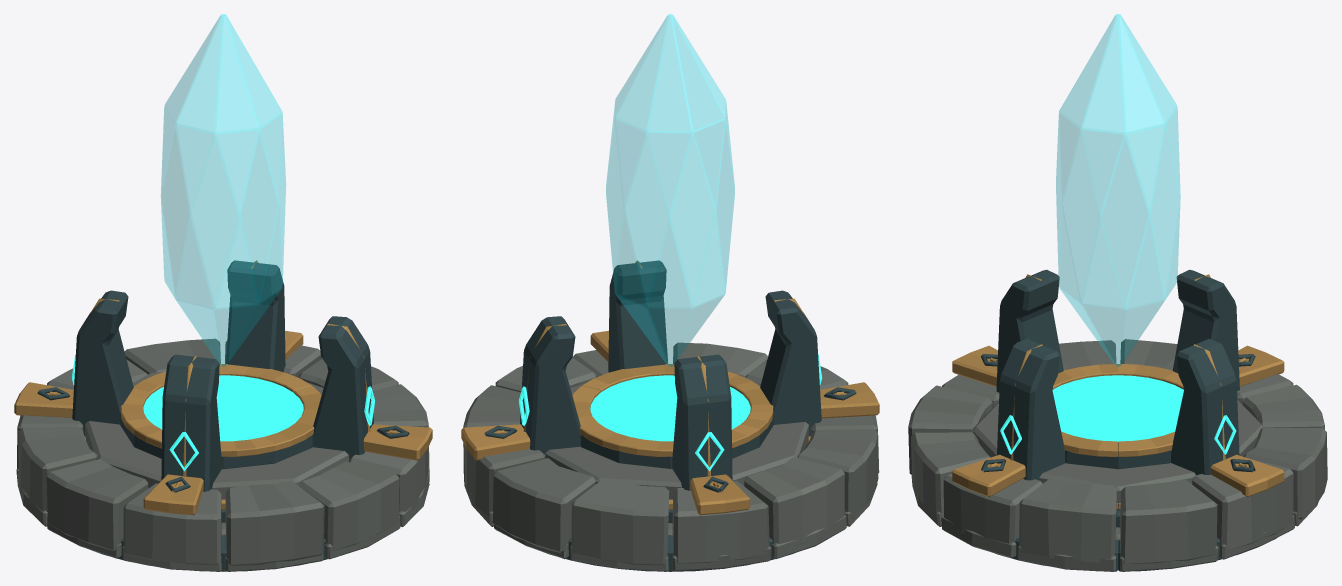
Rendered from landmarks.glb.
3 renders of one model, left to right at view 1: azimuth 30°, elevation 25°; view 2: azimuth 150°, elevation 25°; view 3: azimuth 270°, elevation 25°, orthographic.
Parts seen in each view (by area): view 1: portal_landmark_stone, core_crystal, core_landmark_iron, core_landmark_stone, core_landmark_brass, portal_landmark_brass, core_core_socket_glow, portal_landmark_iron, core_core_runes; view 2: portal_landmark_stone, core_crystal, core_landmark_iron, core_landmark_brass, core_landmark_stone, portal_landmark_brass, core_core_socket_glow, portal_landmark_iron, core_core_runes; view 3: portal_landmark_stone, core_crystal, core_landmark_iron, core_core_socket_glow, portal_landmark_brass, core_landmark_stone, core_landmark_brass, portal_landmark_iron, core_core_runes.
Part boxes in pixels (<box>): portal_landmark_stone: <box>16,338,429,571</box>; core_crystal: <box>161,14,285,366</box>; core_landmark_iron: <box>72,260,373,522</box>; core_landmark_stone: <box>85,372,348,535</box>; core_landmark_brass: <box>87,260,370,476</box>; portal_landmark_brass: <box>14,330,432,515</box>; core_core_socket_glow: <box>143,375,303,441</box>; portal_landmark_iron: <box>37,387,409,571</box>; core_core_runes: <box>72,354,374,471</box>; portal_landmark_stone: <box>463,342,879,571</box>; core_crystal: <box>606,14,734,366</box>; core_landmark_iron: <box>520,260,821,523</box>; core_landmark_brass: <box>523,260,806,476</box>; core_landmark_stone: <box>545,374,808,535</box>; portal_landmark_brass: <box>461,330,879,515</box>; core_core_socket_glow: <box>590,375,750,441</box>; portal_landmark_iron: <box>484,387,856,571</box>; core_core_runes: <box>519,354,822,471</box>; portal_landmark_stone: <box>908,339,1327,571</box>; core_crystal: <box>1056,14,1180,366</box>; core_landmark_iron: <box>996,269,1239,527</box>; core_core_socket_glow: <box>1052,375,1183,441</box>; portal_landmark_brass: <box>952,345,1284,509</box>; core_landmark_stone: <box>973,400,1263,541</box>; core_landmark_brass: <box>1010,274,1225,460</box>; portal_landmark_iron: <box>981,354,1276,571</box>; core_core_runes: <box>1000,415,1236,454</box>.
Size of the model in its own units: 0.9019 by 1.14 by 0.9112.
